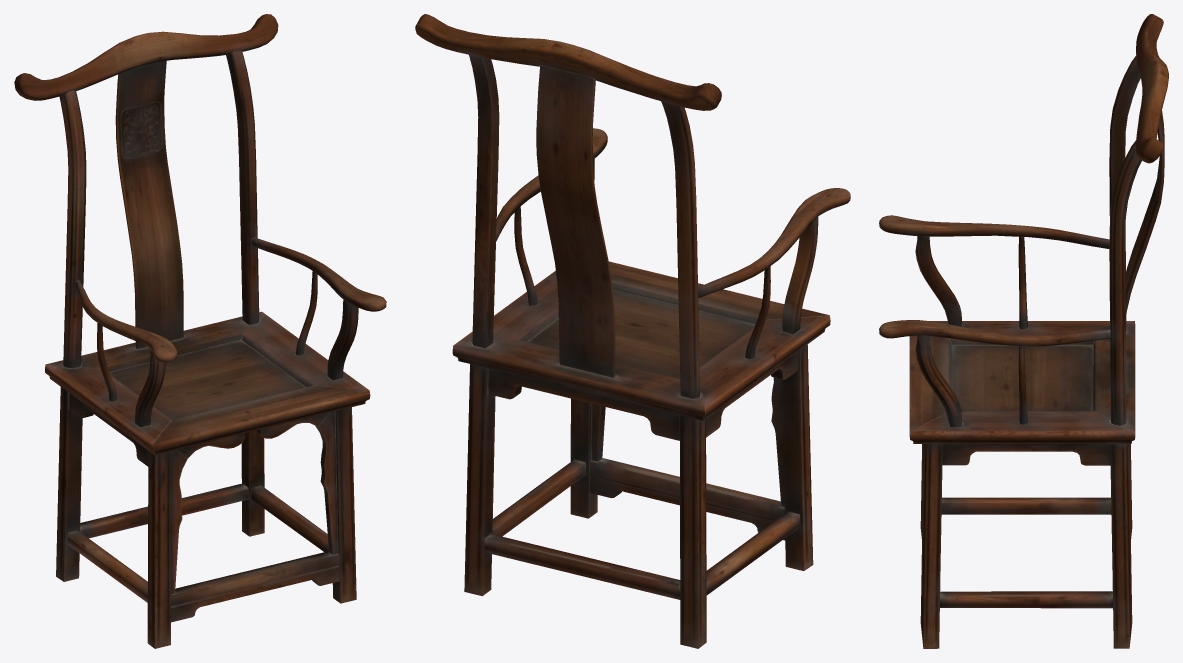
File: chinese_armchair.glb
3 views of the same model, side by side, from view 1: azimuth 30°, elevation 25°; view 2: azimuth 150°, elevation 25°; view 3: azimuth 270°, elevation 25° (orthographic). The views are drawn at different scales.
Visible parts, largest first — view 1: chinese_armchair; view 2: chinese_armchair; view 3: chinese_armchair.
Boxes of the visible parts, box(x1,y1,x2,y2) form: chinese_armchair: box(14, 14, 386, 648); chinese_armchair: box(415, 14, 850, 648); chinese_armchair: box(879, 14, 1168, 648).
Bounding box in the file's own units: 0.8483 × 1.59 × 0.7886.
Materials: 1 (1 with a texture image).
